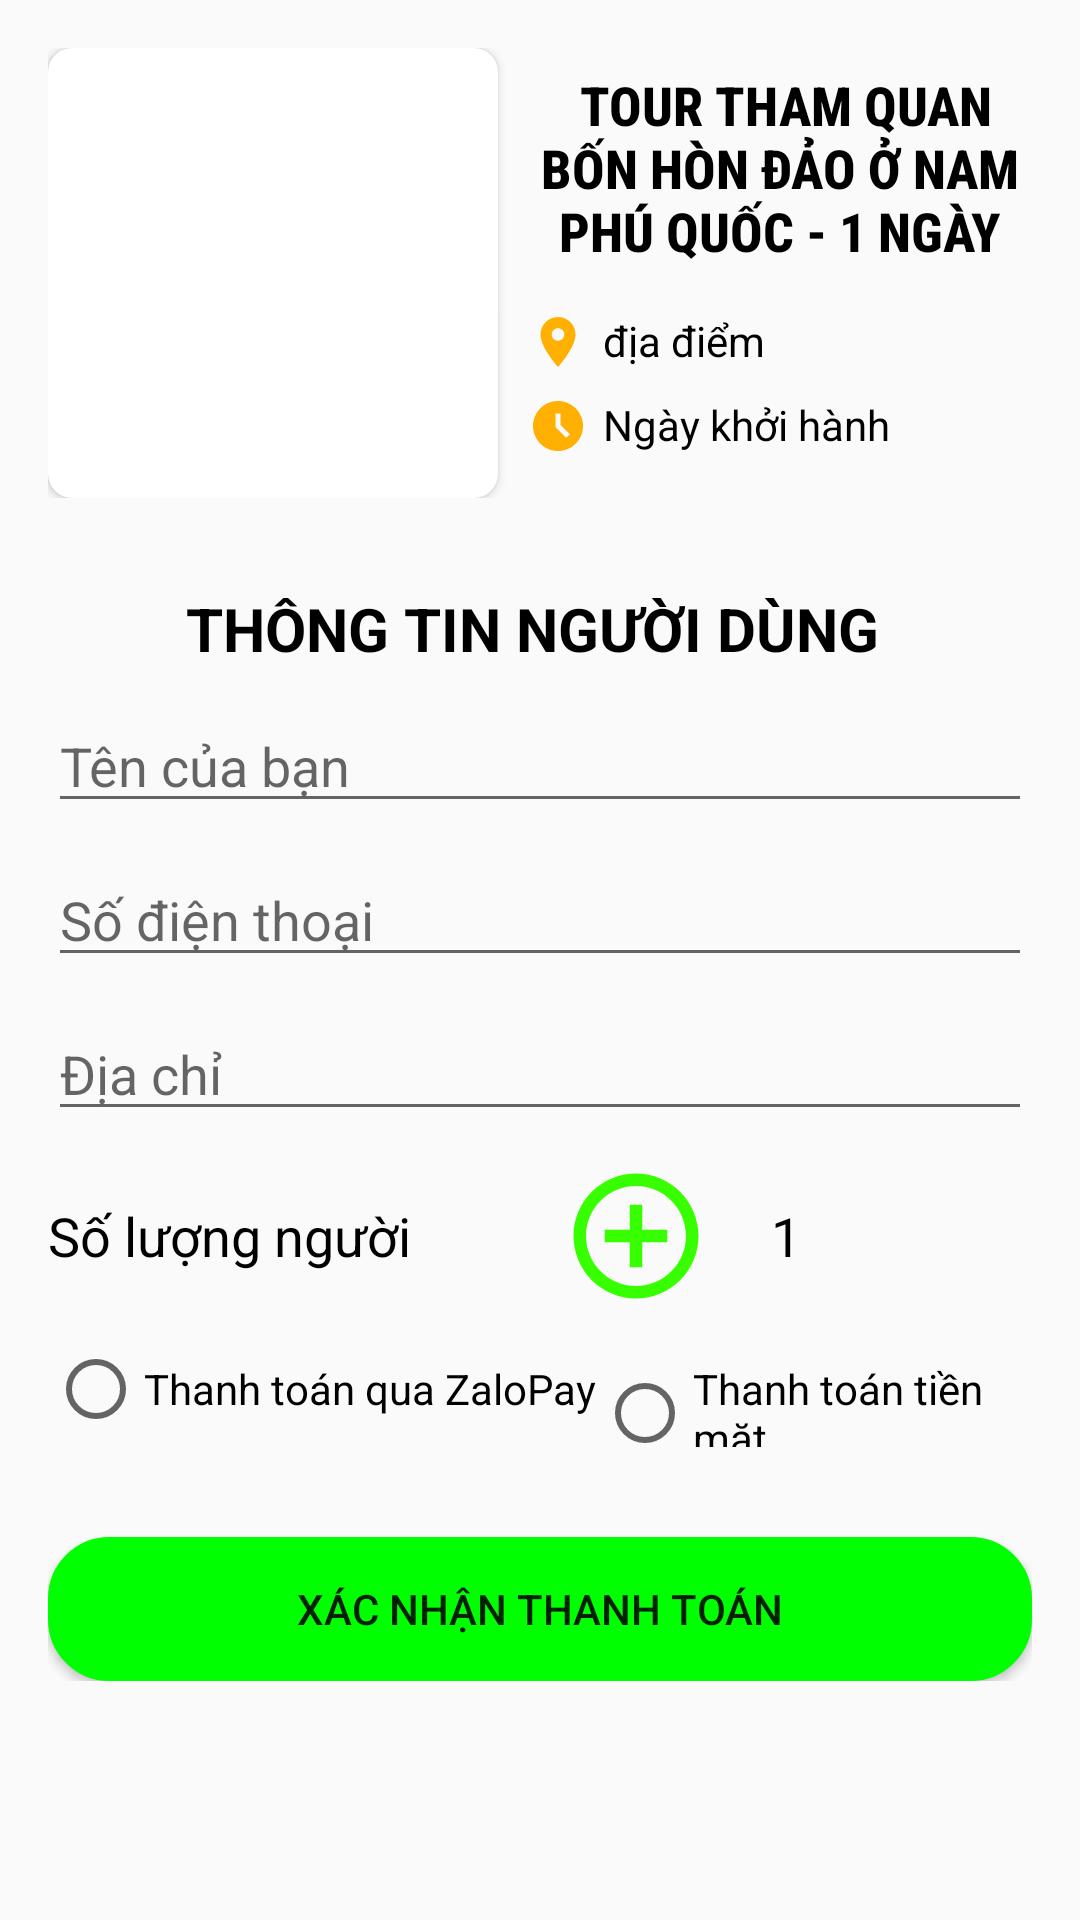

Icon click points for this 1080px x 1920px phone screenshot, format (x,y):
add circle: (636,1236)
maker: (558,342)
time: (558,426)
